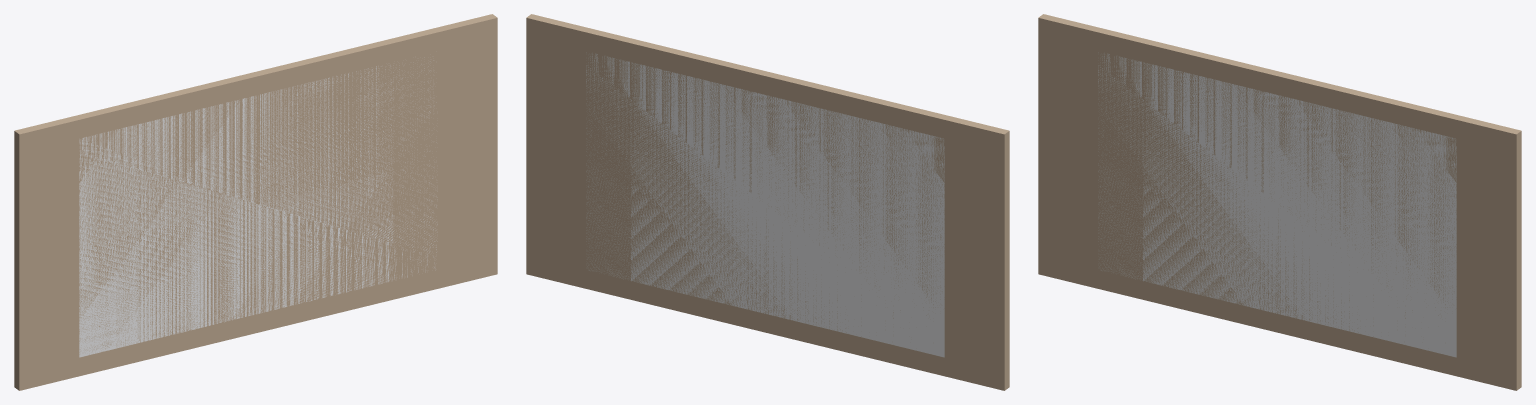
The model's file is MOD_WINDOW_RESIDENTIAL_LARGE_001_LOD_MAP.glb.
3 views of the same model, side by side, from view 1: azimuth 30°, elevation 25°; view 2: azimuth 150°, elevation 25°; view 3: azimuth 330°, elevation 25° (orthographic).
Visible parts, largest first — view 1: MOD_WINDOW_RESIDENTIAL_LARGE_001_COASTAL_PANORAMIC_WINDOW_MA, MOD_WINDOW_RESIDENTIAL_LARGE_001_DOUBLE_PANEL_WINDOW_MAP_FRA, MOD_WINDOW_RESIDENTIAL_LARGE_001_LARGE_SINGLE_WINDOW_MAP_FRA; view 2: MOD_WINDOW_RESIDENTIAL_LARGE_001_COASTAL_PANORAMIC_WINDOW_MA, MOD_WINDOW_RESIDENTIAL_LARGE_001_DOUBLE_PANEL_WINDOW_MAP_FRA, MOD_WINDOW_RESIDENTIAL_LARGE_001_LARGE_SINGLE_WINDOW_MAP_FRA; view 3: MOD_WINDOW_RESIDENTIAL_LARGE_001_COASTAL_PANORAMIC_WINDOW_MA, MOD_WINDOW_RESIDENTIAL_LARGE_001_DOUBLE_PANEL_WINDOW_MAP_FRA, MOD_WINDOW_RESIDENTIAL_LARGE_001_LARGE_SINGLE_WINDOW_MAP_FRA.
Boxes of the visible parts, left/top/right/bottom form: MOD_WINDOW_RESIDENTIAL_LARGE_001_COASTAL_PANORAMIC_WINDOW_MA: left=14, top=14, right=497, bottom=390; MOD_WINDOW_RESIDENTIAL_LARGE_001_DOUBLE_PANEL_WINDOW_MAP_FRA: left=79, top=57, right=437, bottom=357; MOD_WINDOW_RESIDENTIAL_LARGE_001_LARGE_SINGLE_WINDOW_MAP_FRA: left=124, top=89, right=392, bottom=339; MOD_WINDOW_RESIDENTIAL_LARGE_001_COASTAL_PANORAMIC_WINDOW_MA: left=526, top=14, right=1009, bottom=390; MOD_WINDOW_RESIDENTIAL_LARGE_001_DOUBLE_PANEL_WINDOW_MAP_FRA: left=586, top=52, right=944, bottom=357; MOD_WINDOW_RESIDENTIAL_LARGE_001_LARGE_SINGLE_WINDOW_MAP_FRA: left=631, top=83, right=899, bottom=343; MOD_WINDOW_RESIDENTIAL_LARGE_001_COASTAL_PANORAMIC_WINDOW_MA: left=1038, top=14, right=1521, bottom=390; MOD_WINDOW_RESIDENTIAL_LARGE_001_DOUBLE_PANEL_WINDOW_MAP_FRA: left=1098, top=52, right=1456, bottom=357; MOD_WINDOW_RESIDENTIAL_LARGE_001_LARGE_SINGLE_WINDOW_MAP_FRA: left=1143, top=83, right=1411, bottom=343.
Bounding box in the file's own units: 3.2 × 1.64 × 0.06.
